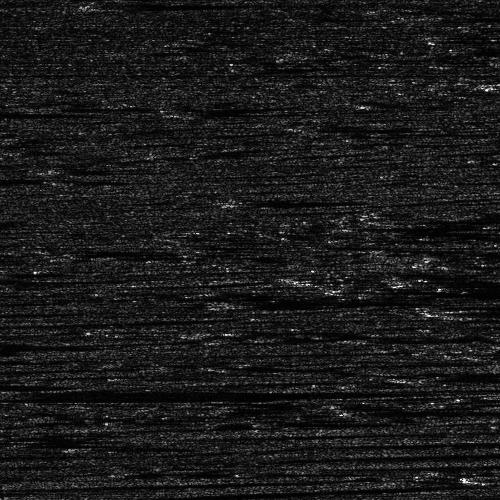rock: (408, 75, 500, 92), (38, 0, 163, 6)
shadow: (101, 0, 236, 6), (0, 110, 71, 115)
